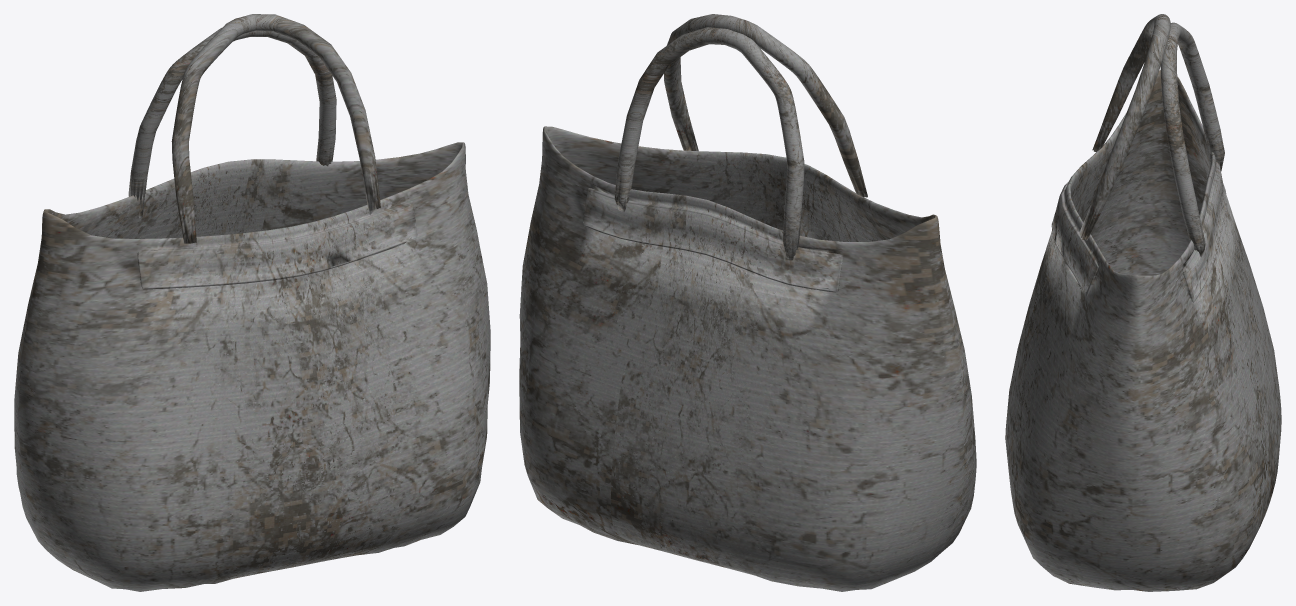
Rendered from beach_bag.glb.
3 views of the same model, side by side, from view 1: azimuth 30°, elevation 25°; view 2: azimuth 150°, elevation 25°; view 3: azimuth 270°, elevation 25° (orthographic). The views are drawn at different scales.
Parts seen in each view (by area): view 1: polySurface116; view 2: polySurface116; view 3: polySurface116.
Part boxes in pixels (left/top/right/bottom): polySurface116: left=14, top=14, right=490, bottom=591; polySurface116: left=519, top=14, right=976, bottom=591; polySurface116: left=1005, top=14, right=1281, bottom=591.
Size of the model in its own units: 0.0135 by 0.0148 by 0.00744.
Materials: 1 (1 with a texture image).
